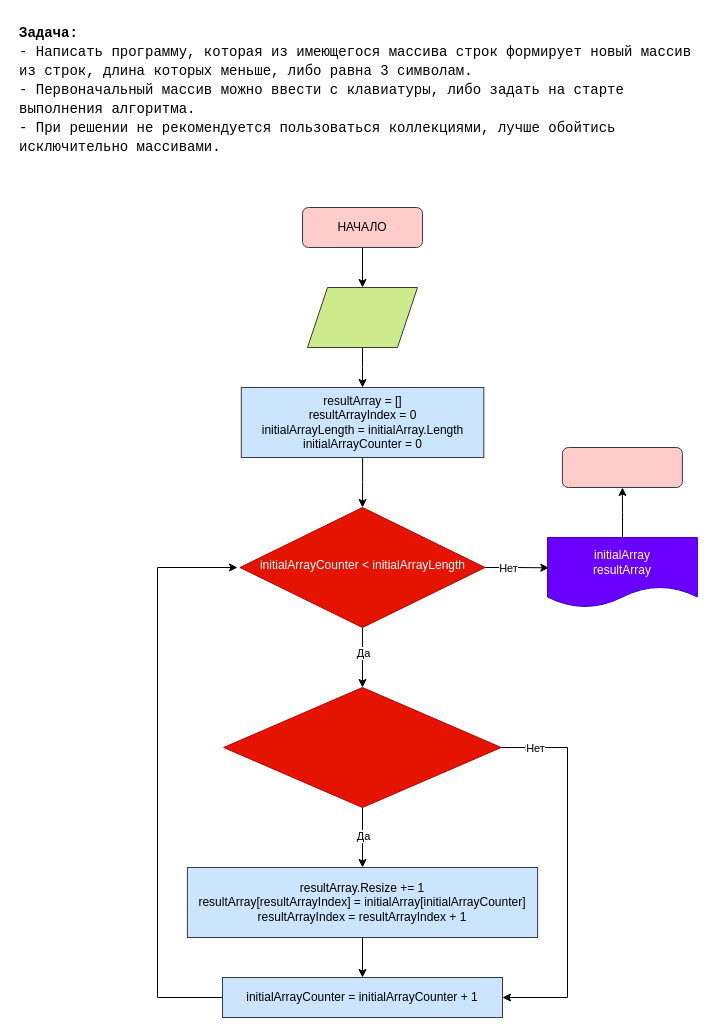
Image size: 724x1035. Some labels were removed from this diagram. The centre of each missing label's shape, as x and y in pixels:
"initialArray[]" belongs at pixel 362 317.
"initialArray[initialArrayCounter].Length <= 3" belongs at pixel 362 747.
"КОНЕЦ" belongs at pixel 621 467.
